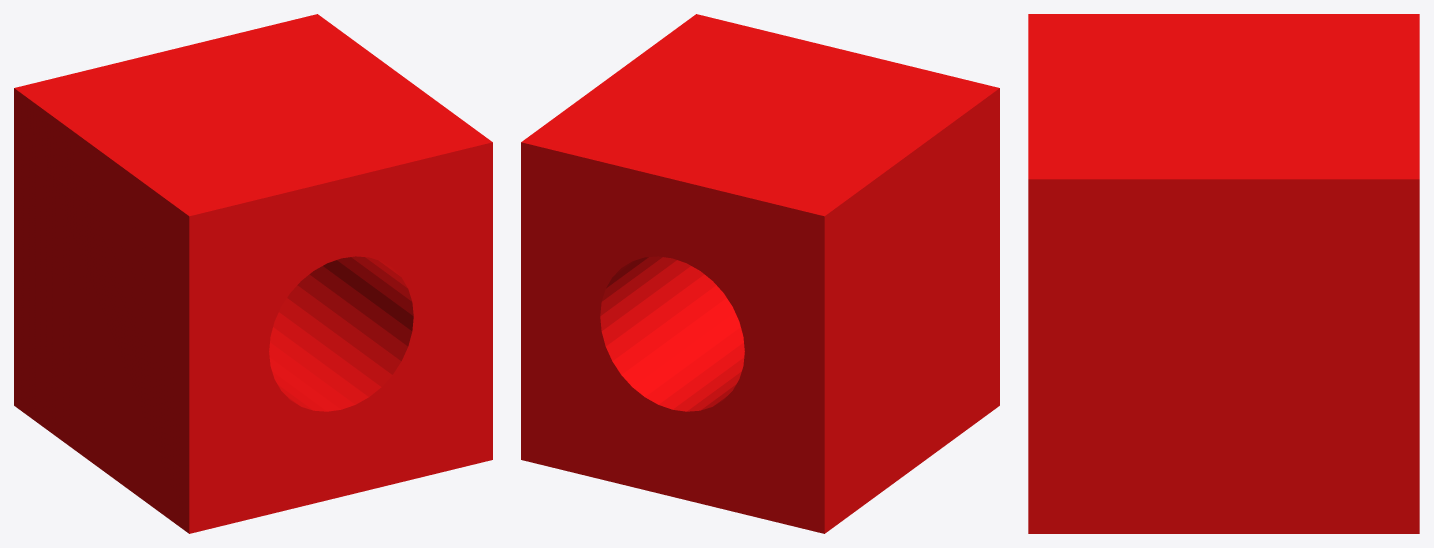
3 views of the same model, side by side, from view 1: azimuth 30°, elevation 25°; view 2: azimuth 150°, elevation 25°; view 3: azimuth 270°, elevation 25° (orthographic). The views are drawn at different scales.
Visible parts, largest first — view 1: Cube; view 2: Cube; view 3: Cube.
Part boxes in pixels (x1,y1,x2,y2): Cube: (14,14,492,533); Cube: (521,14,999,533); Cube: (1028,14,1419,533).
Bounding box in the file's own units: 2 × 2 × 2.
